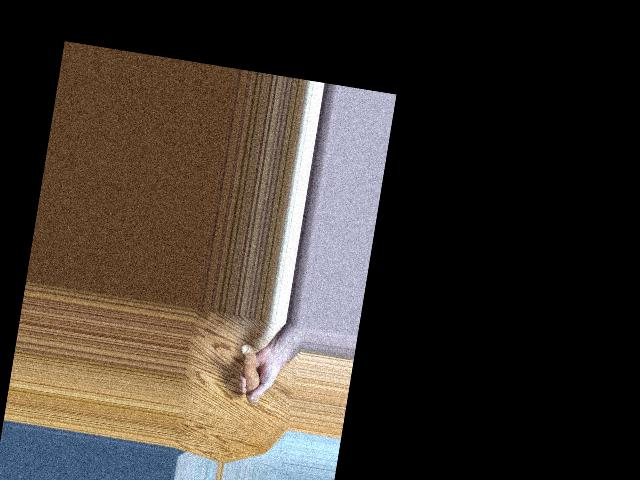sweet_potato: (233, 340, 267, 407)
